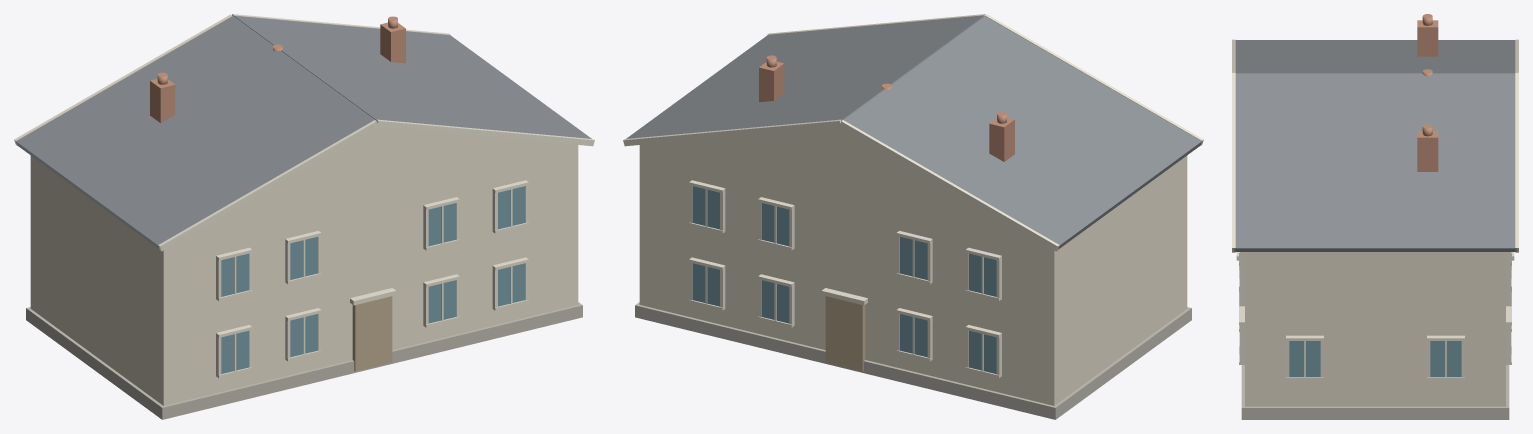
Rendered from rhine-terrace_lod0.glb.
3 views of the same model, side by side, from view 1: azimuth 30°, elevation 25°; view 2: azimuth 150°, elevation 25°; view 3: azimuth 270°, elevation 25° (orthographic).
Parts seen in each view (by area): view 1: RF_Body, RF_Roof.001, RF_Roof, RF_Gable, RF_Foundation, RF_Door.001, RF_Vergeband.001, RF_Vergeband.003, RF_Window.005, RF_Window.006, RF_Window.003, RF_Window.004 (+7 smaller); view 2: RF_Body, RF_Roof.001, RF_Roof, RF_Gable.001, RF_Foundation, RF_Door, RF_Vergeband.002, RF_Vergeband, RF_Window.013, RF_Window.014, RF_Window.011, RF_Window.012 (+7 smaller); view 3: RF_Roof, RF_Body, RF_Roof.001, RF_Foundation, RF_Window.017, RF_Window, RF_Chimney, RF_Chimney.001, RF_Vergeband, RF_Vergeband.003.
Boxes of the visible parts, bbox=[...] form: RF_Body: bbox=[30, 144, 578, 405]; RF_Roof.001: bbox=[15, 16, 373, 249]; RF_Roof: bbox=[234, 16, 591, 138]; RF_Gable: bbox=[190, 127, 564, 235]; RF_Foundation: bbox=[26, 302, 582, 419]; RF_Door.001: bbox=[352, 296, 392, 371]; RF_Vergeband.001: bbox=[158, 120, 377, 251]; RF_Vergeband.003: bbox=[376, 119, 594, 146]; RF_Window.005: bbox=[428, 280, 456, 323]; RF_Window.006: bbox=[428, 203, 456, 246]; RF_Window.003: bbox=[290, 314, 317, 357]; RF_Window.004: bbox=[290, 236, 317, 279]; RF_Body: bbox=[639, 144, 1187, 405]; RF_Roof.001: bbox=[844, 16, 1201, 249]; RF_Roof: bbox=[626, 15, 984, 138]; RF_Gable.001: bbox=[653, 127, 1027, 235]; RF_Foundation: bbox=[635, 302, 1191, 419]; RF_Door: bbox=[825, 296, 865, 371]; RF_Vergeband.002: bbox=[840, 120, 1059, 251]; RF_Vergeband: bbox=[623, 119, 841, 146]; RF_Window.013: bbox=[761, 280, 789, 323]; RF_Window.014: bbox=[761, 203, 789, 246]; RF_Window.011: bbox=[900, 314, 927, 357]; RF_Window.012: bbox=[900, 236, 927, 279]; RF_Roof: bbox=[1234, 73, 1516, 251]; RF_Body: bbox=[1245, 252, 1505, 406]; RF_Roof.001: bbox=[1235, 40, 1515, 73]; RF_Foundation: bbox=[1241, 365, 1509, 419]; RF_Window.017: bbox=[1289, 341, 1320, 377]; RF_Window: bbox=[1430, 341, 1461, 377]; RF_Chimney: bbox=[1417, 130, 1438, 171]; RF_Chimney.001: bbox=[1417, 20, 1438, 56]; RF_Vergeband: bbox=[1515, 73, 1518, 252]; RF_Vergeband.003: bbox=[1232, 73, 1235, 252].
Bounding box in the file's own units: 18.87 × 10.47 × 10.98.
